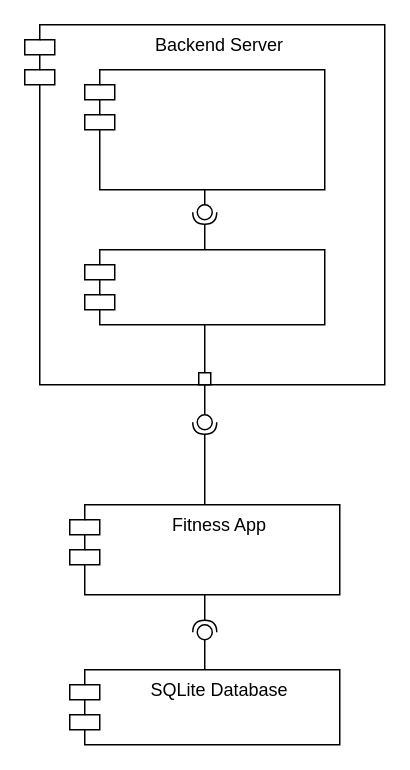
Some shapes in this 410 by 770 pixel diagram are drawn without their labels. Here are the shapes that lost their labels. From the top down, the box of each, then its label:
(83, 68, 325, 190): MySQL Database
(83, 248, 325, 325): Nginx Web Server
